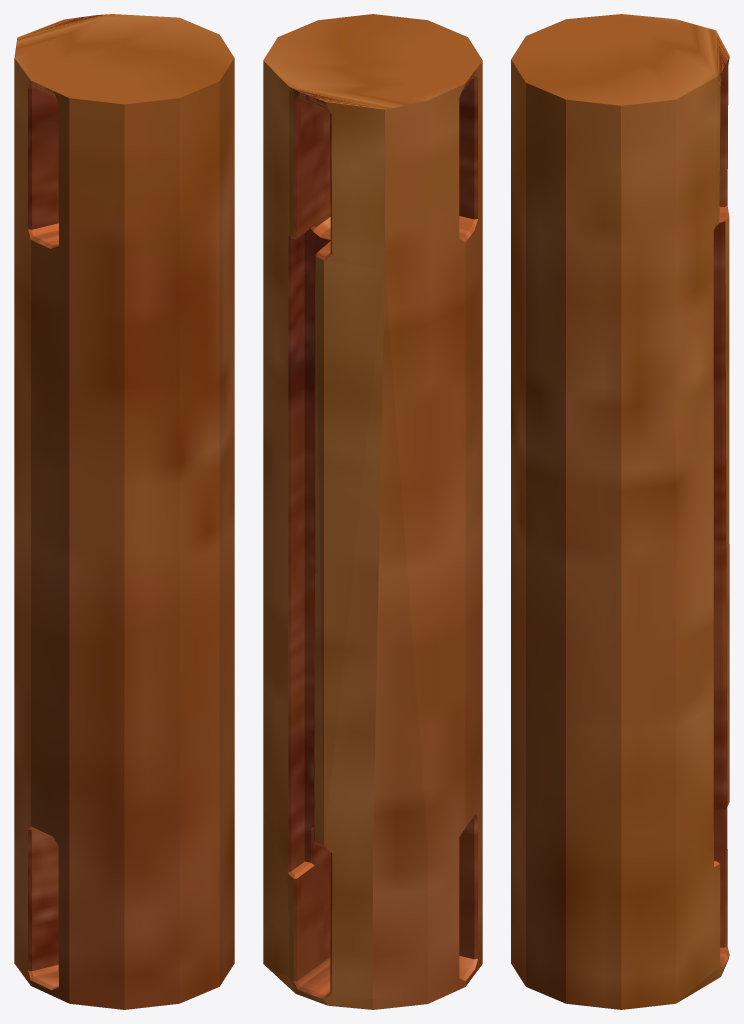
Rendered from SJ_J_tui_02.FBX.
The picture shows the model from 3 angles, left to right: view 1: azimuth 30°, elevation 25°; view 2: azimuth 150°, elevation 25°; view 3: azimuth 270°, elevation 25°; orthographic projection.
Visible parts, largest first — view 1: SJ_J_tui_02; view 2: SJ_J_tui_02; view 3: SJ_J_tui_02.
Boxes of the visible parts, left/top/right/bottom form: SJ_J_tui_02: left=14, top=14, right=234, bottom=1009; SJ_J_tui_02: left=263, top=14, right=482, bottom=1009; SJ_J_tui_02: left=511, top=14, right=729, bottom=1009.
Size of the model in its own units: 3.99 by 18.34 by 4.02.
